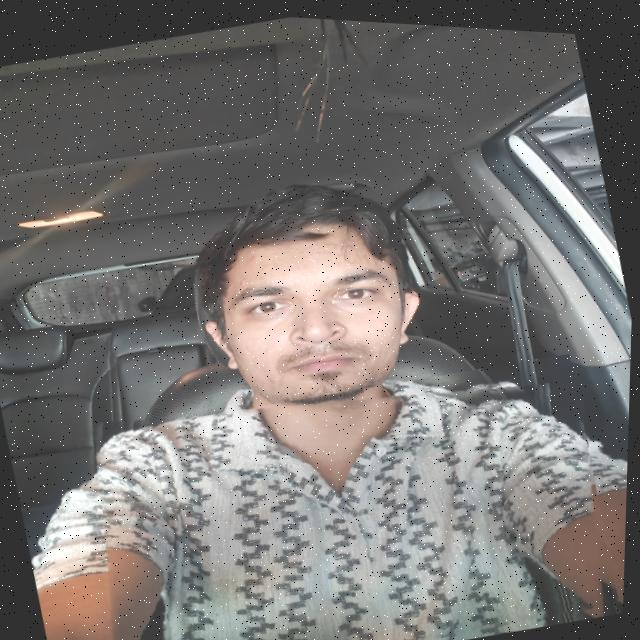no-seatbelt: (72, 322, 629, 640)
